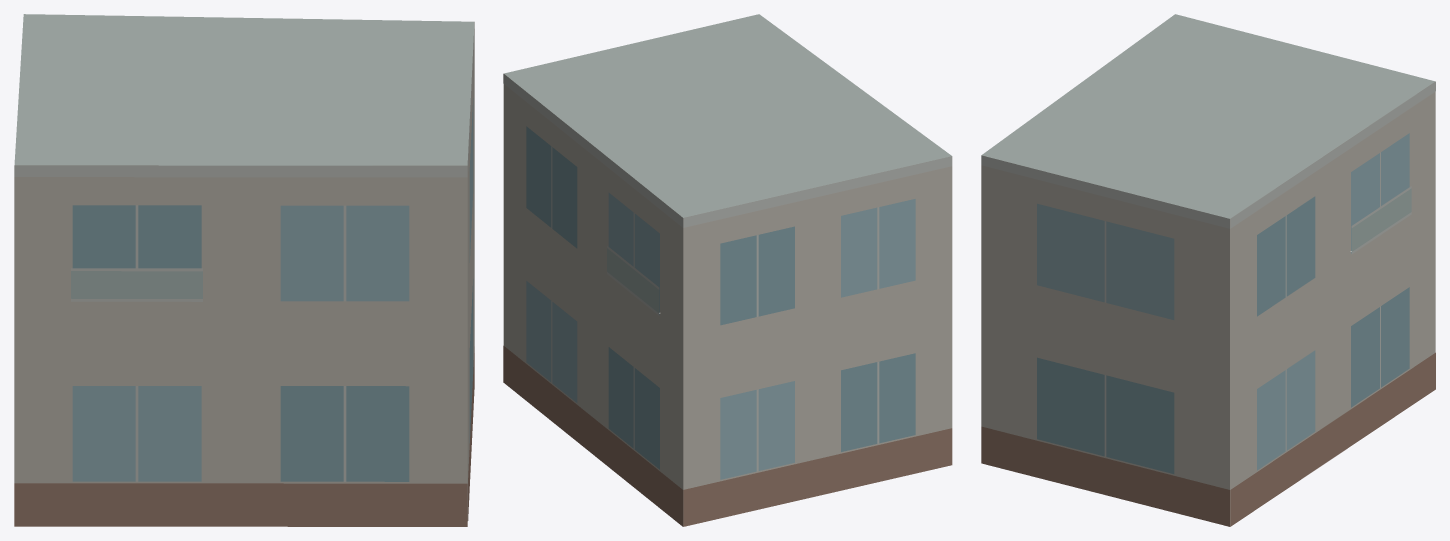
The model's file is survey-upis-32559629.glb.
3 renders of one model, left to right at view 1: azimuth 30°, elevation 25°; view 2: azimuth 150°, elevation 25°; view 3: azimuth 270°, elevation 25°, orthographic. The views are drawn at different scales.
Visible parts, largest first — view 1: survey-upis-32559629.tmp; view 2: survey-upis-32559629.tmp; view 3: survey-upis-32559629.tmp.
Boxes of the visible parts, left/top/right/bottom form: survey-upis-32559629.tmp: left=14, top=14, right=474, bottom=526; survey-upis-32559629.tmp: left=503, top=14, right=952, bottom=526; survey-upis-32559629.tmp: left=981, top=14, right=1435, bottom=526.
Size of the model in its own units: 10.71 by 7.5 by 10.04.
